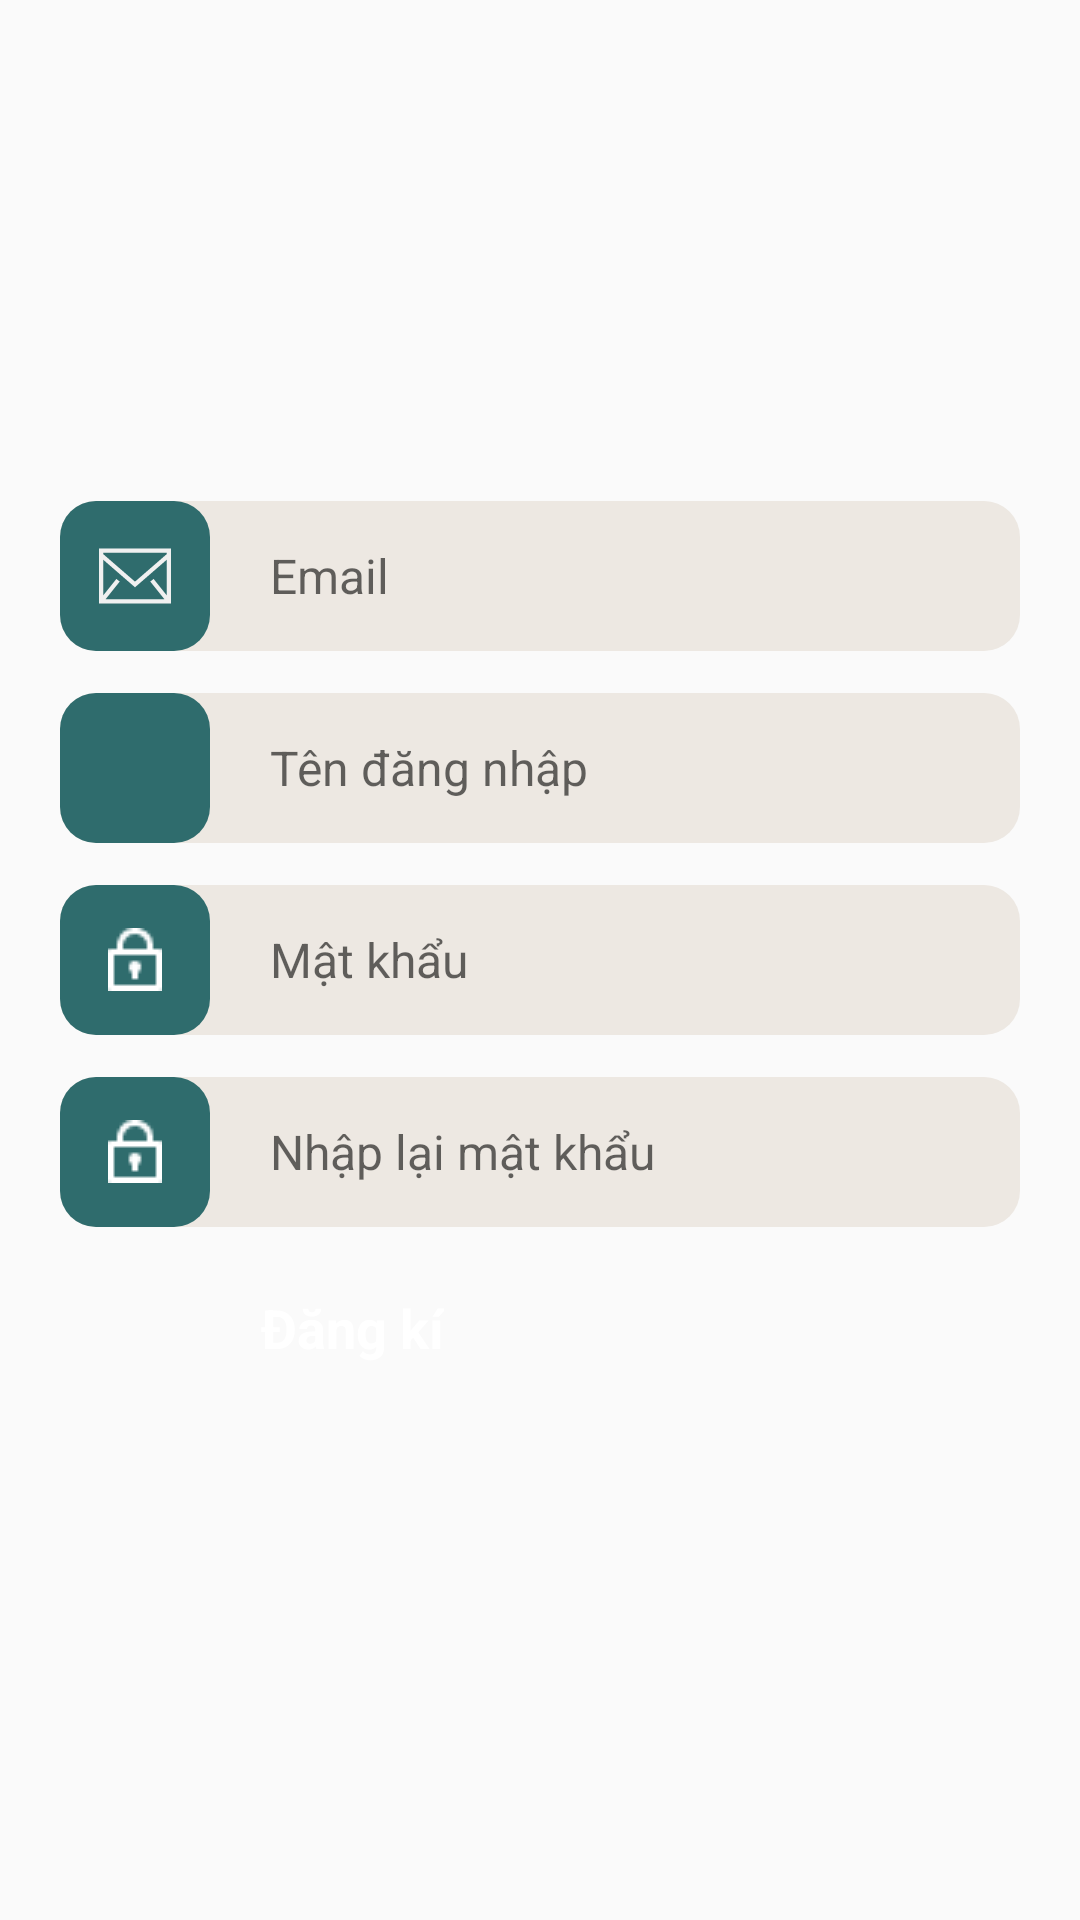

Where to tap for icons on this 1080px×1920px app screen, as [x,y]:
lock: [135,959], [135,1151]
